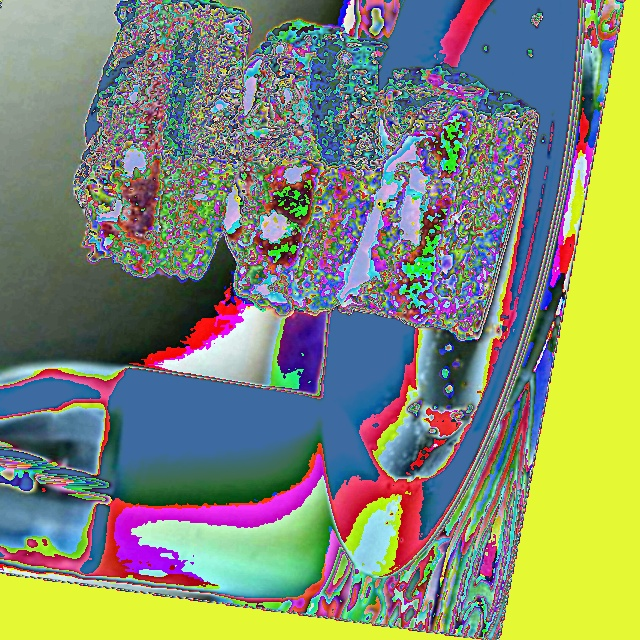background: (71, 0, 536, 342), (86, 238, 343, 602)
